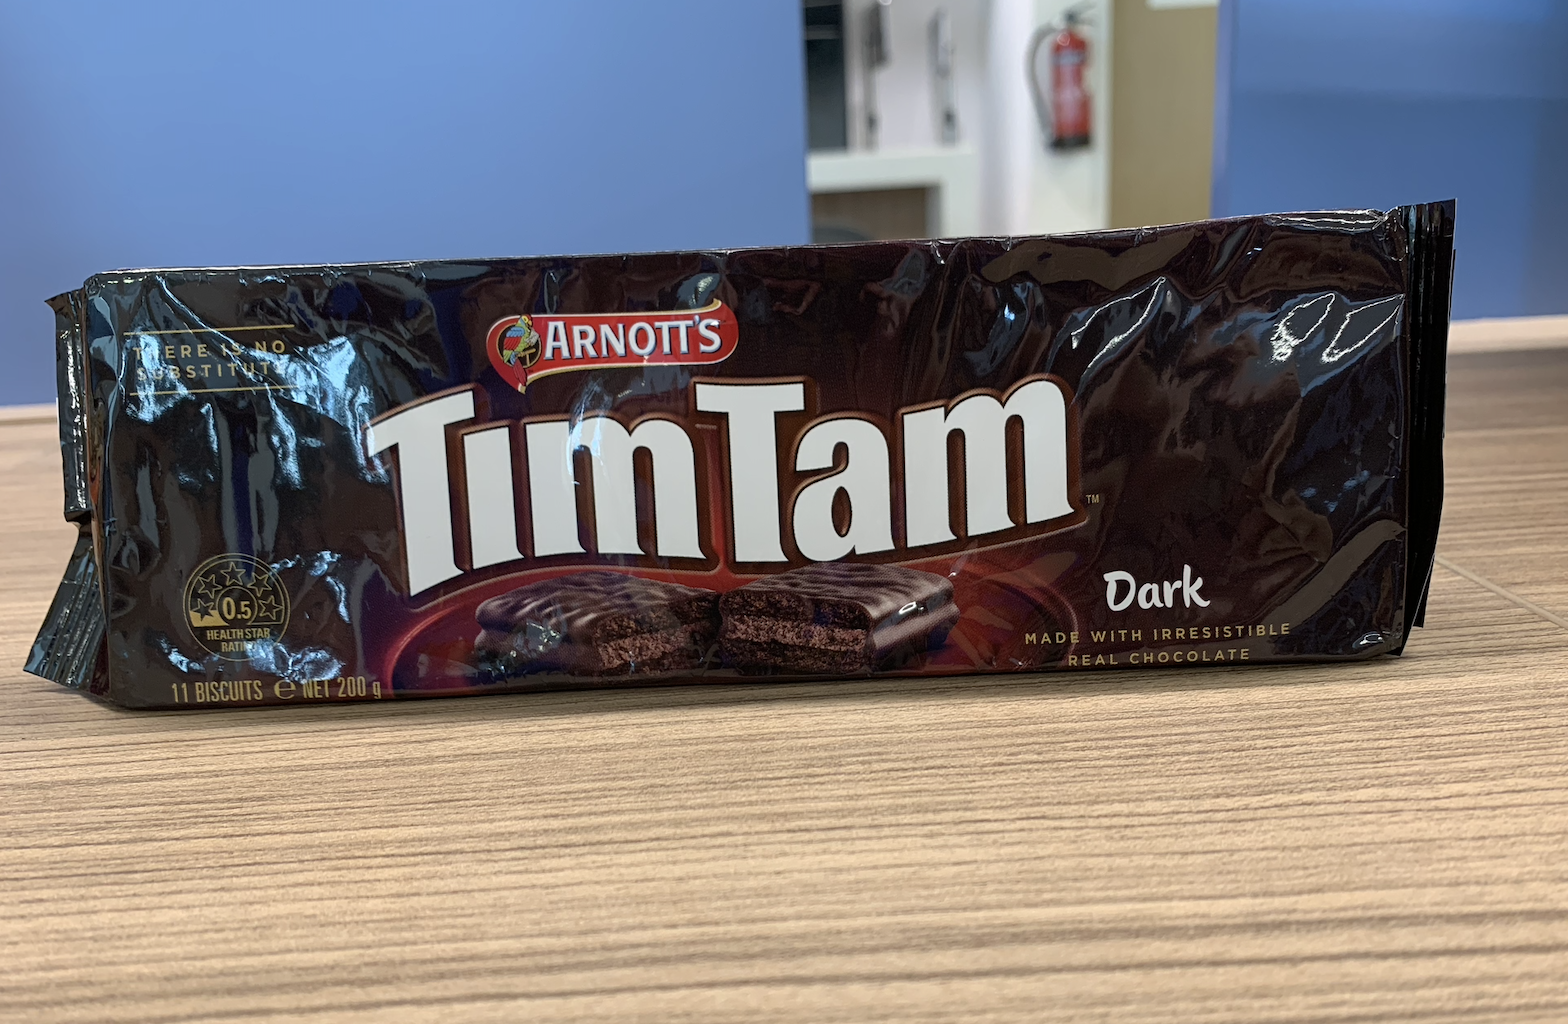cookies_150g: (111, 286, 1349, 677)
